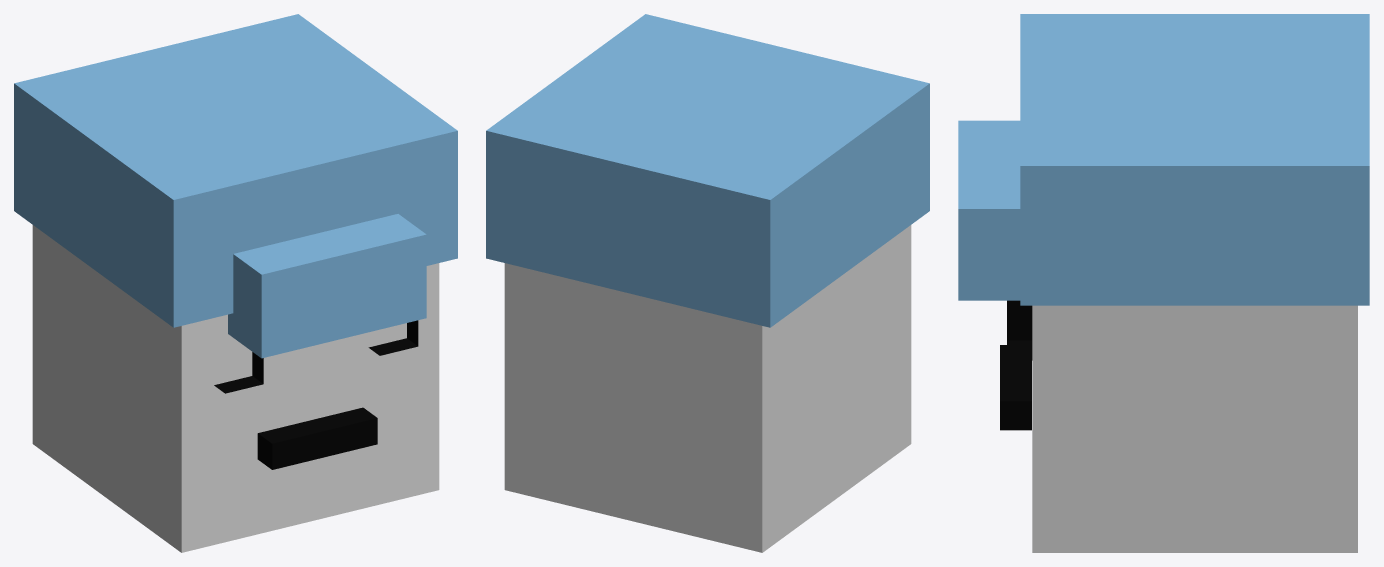
File: WorkerMan.glb
3 views of the same model, side by side, from view 1: azimuth 30°, elevation 25°; view 2: azimuth 150°, elevation 25°; view 3: azimuth 270°, elevation 25° (orthographic). The views are drawn at different scales.
Visible parts, largest first — view 1: Mouth; view 2: Mouth; view 3: Mouth.
Part boxes in pixels (x1,y1,x2,y2): Mouth: (14, 14, 457, 552); Mouth: (486, 14, 929, 552); Mouth: (958, 14, 1369, 552).
Bounding box in the file's own units: 2.21 × 2.67 × 2.53.
